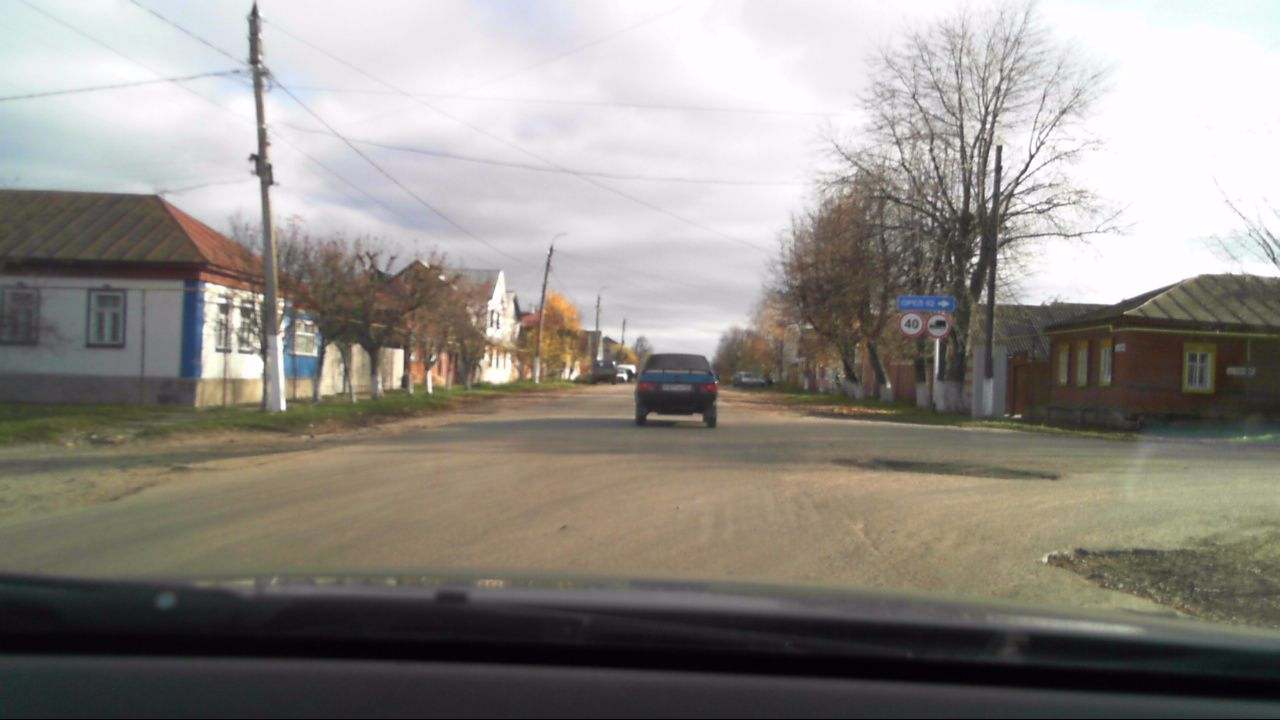speed_warning_40: (899, 313, 923, 338)
